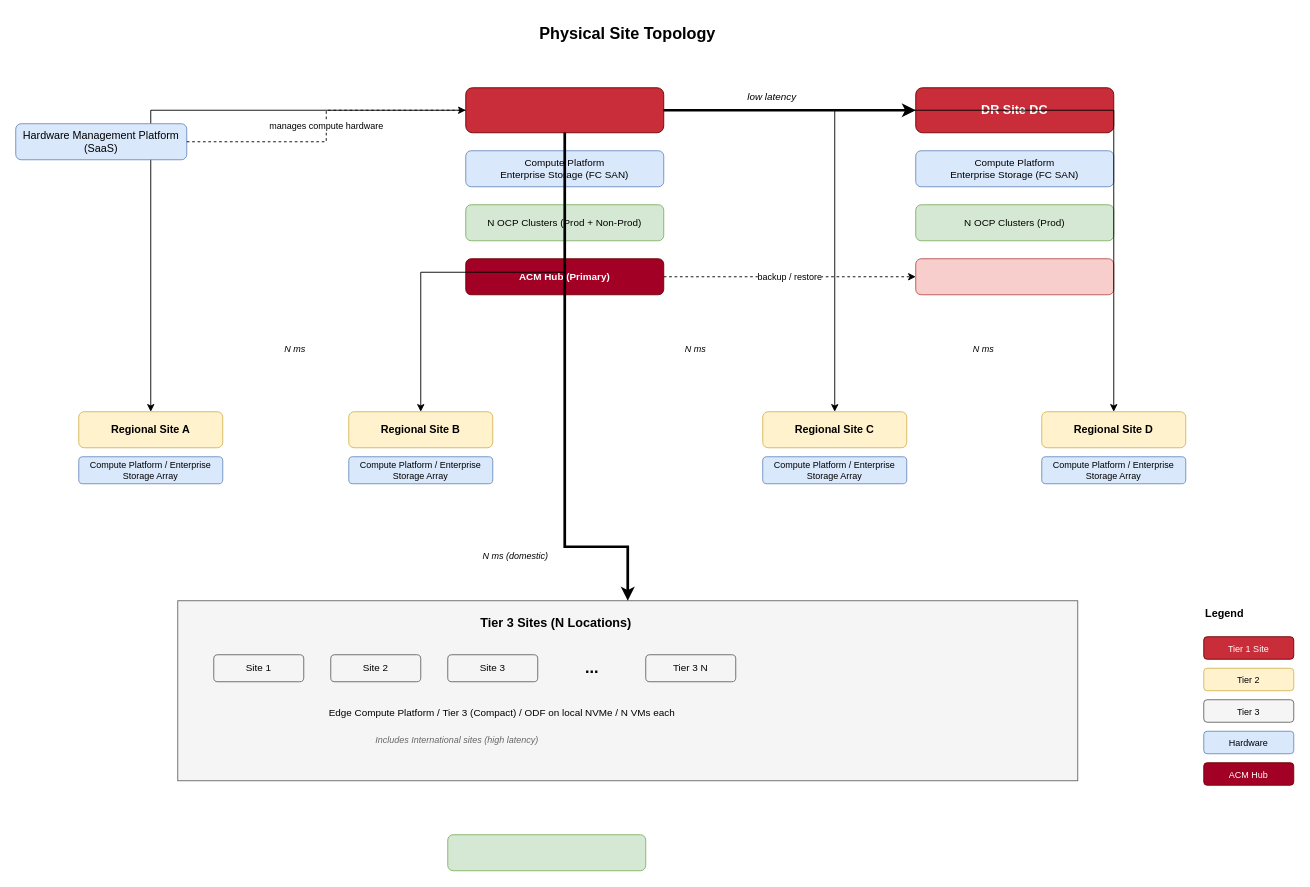
Image size: 1310x887. Some labels were removed from this diagram. The shapes that lost their labels are listed below. From the top down, each one's centre as x and y in pixels, then its label:
At point (564, 110): "Primary DC".
At point (1014, 276): "ACM Hub (Standby)".
At point (546, 852): "Total Managed: N clusters".
